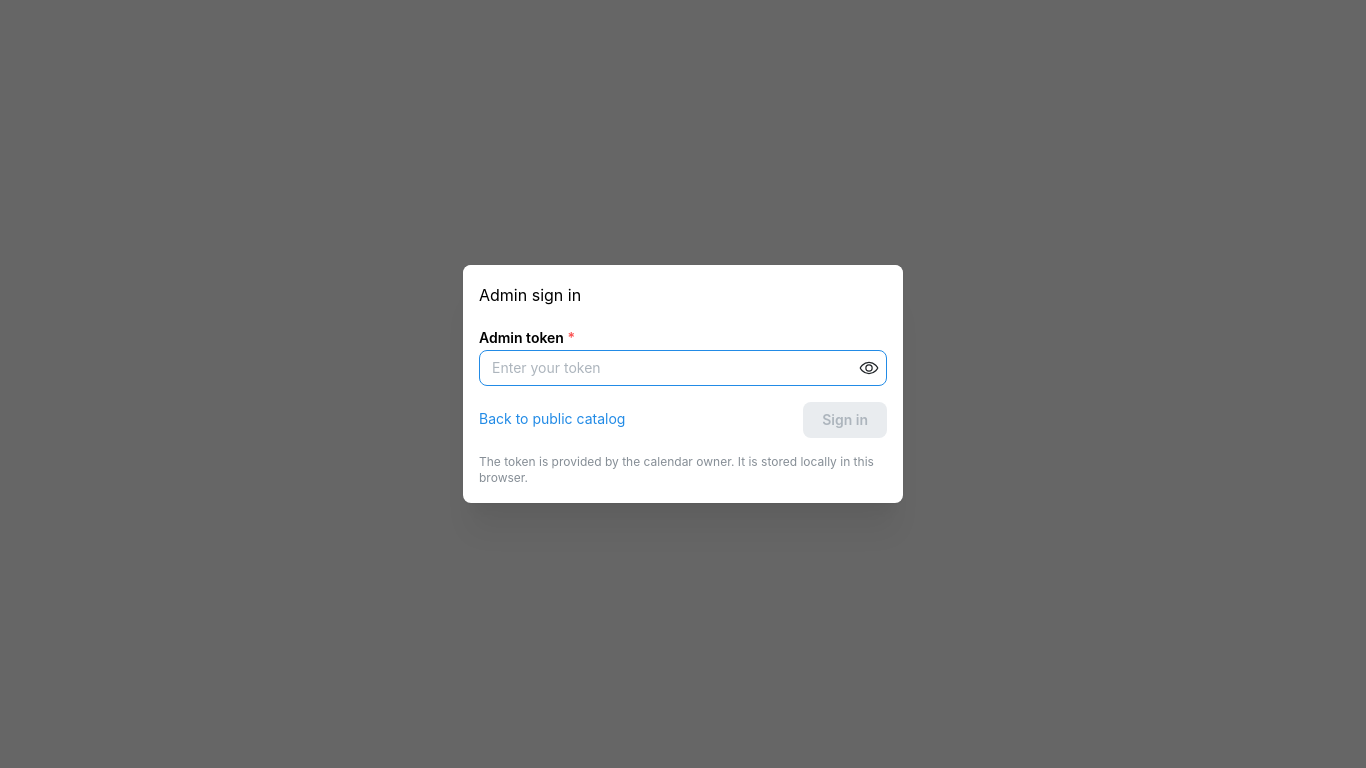
it: AdminTokenModal › shows the rejection alert on 401 and does not store
Type "bad-token" into the password field labelled "Admin token *" at (683, 368), box x1=480 y1=351 x2=886 y2=385
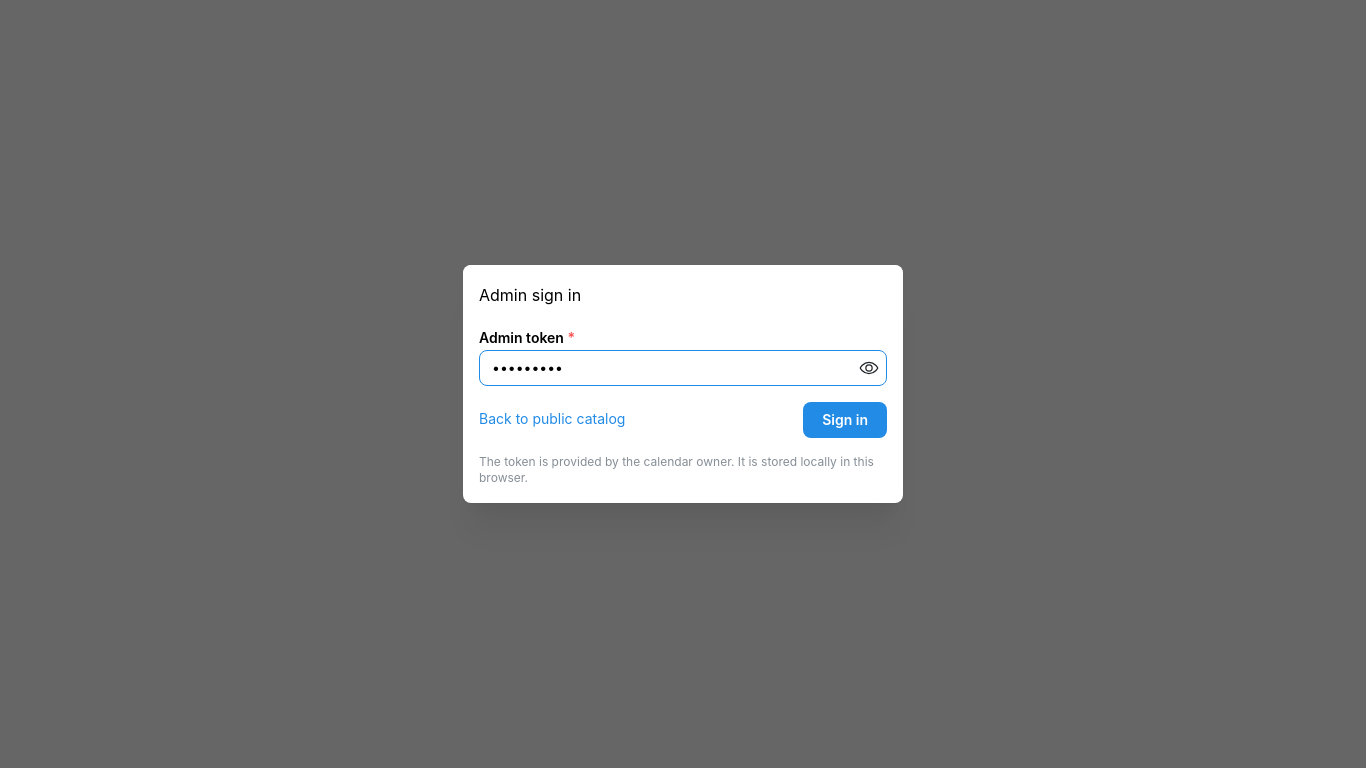
Click the button "Sign in" at (845, 420), box x1=803 y1=402 x2=887 y2=438
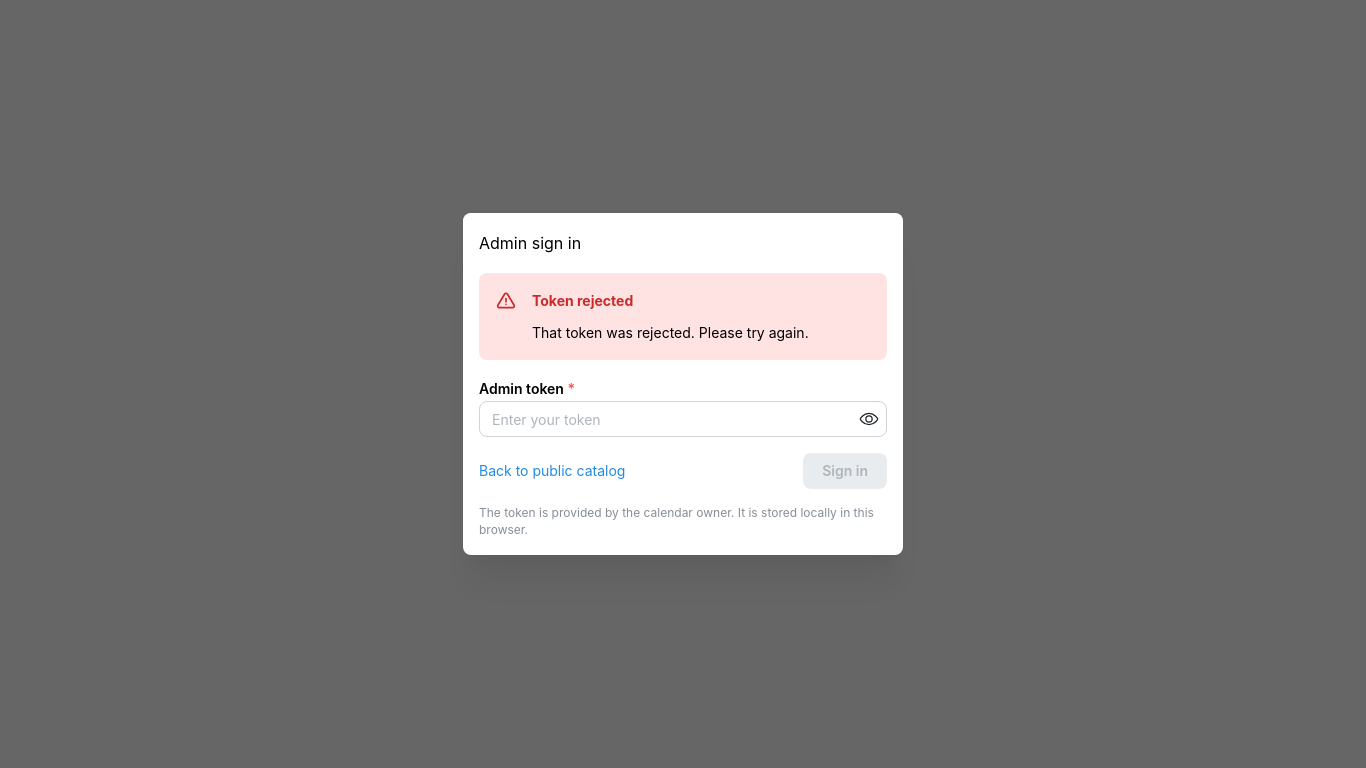
Expected: the text "That token was rejected. Please try again." is shown, x1=532 y1=324 x2=809 y2=341
